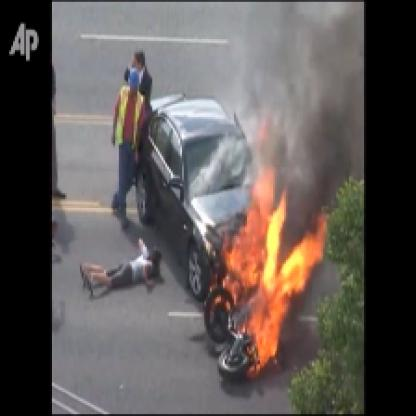Fire: (210, 154, 327, 381)
Smoke: (243, 2, 364, 173)
